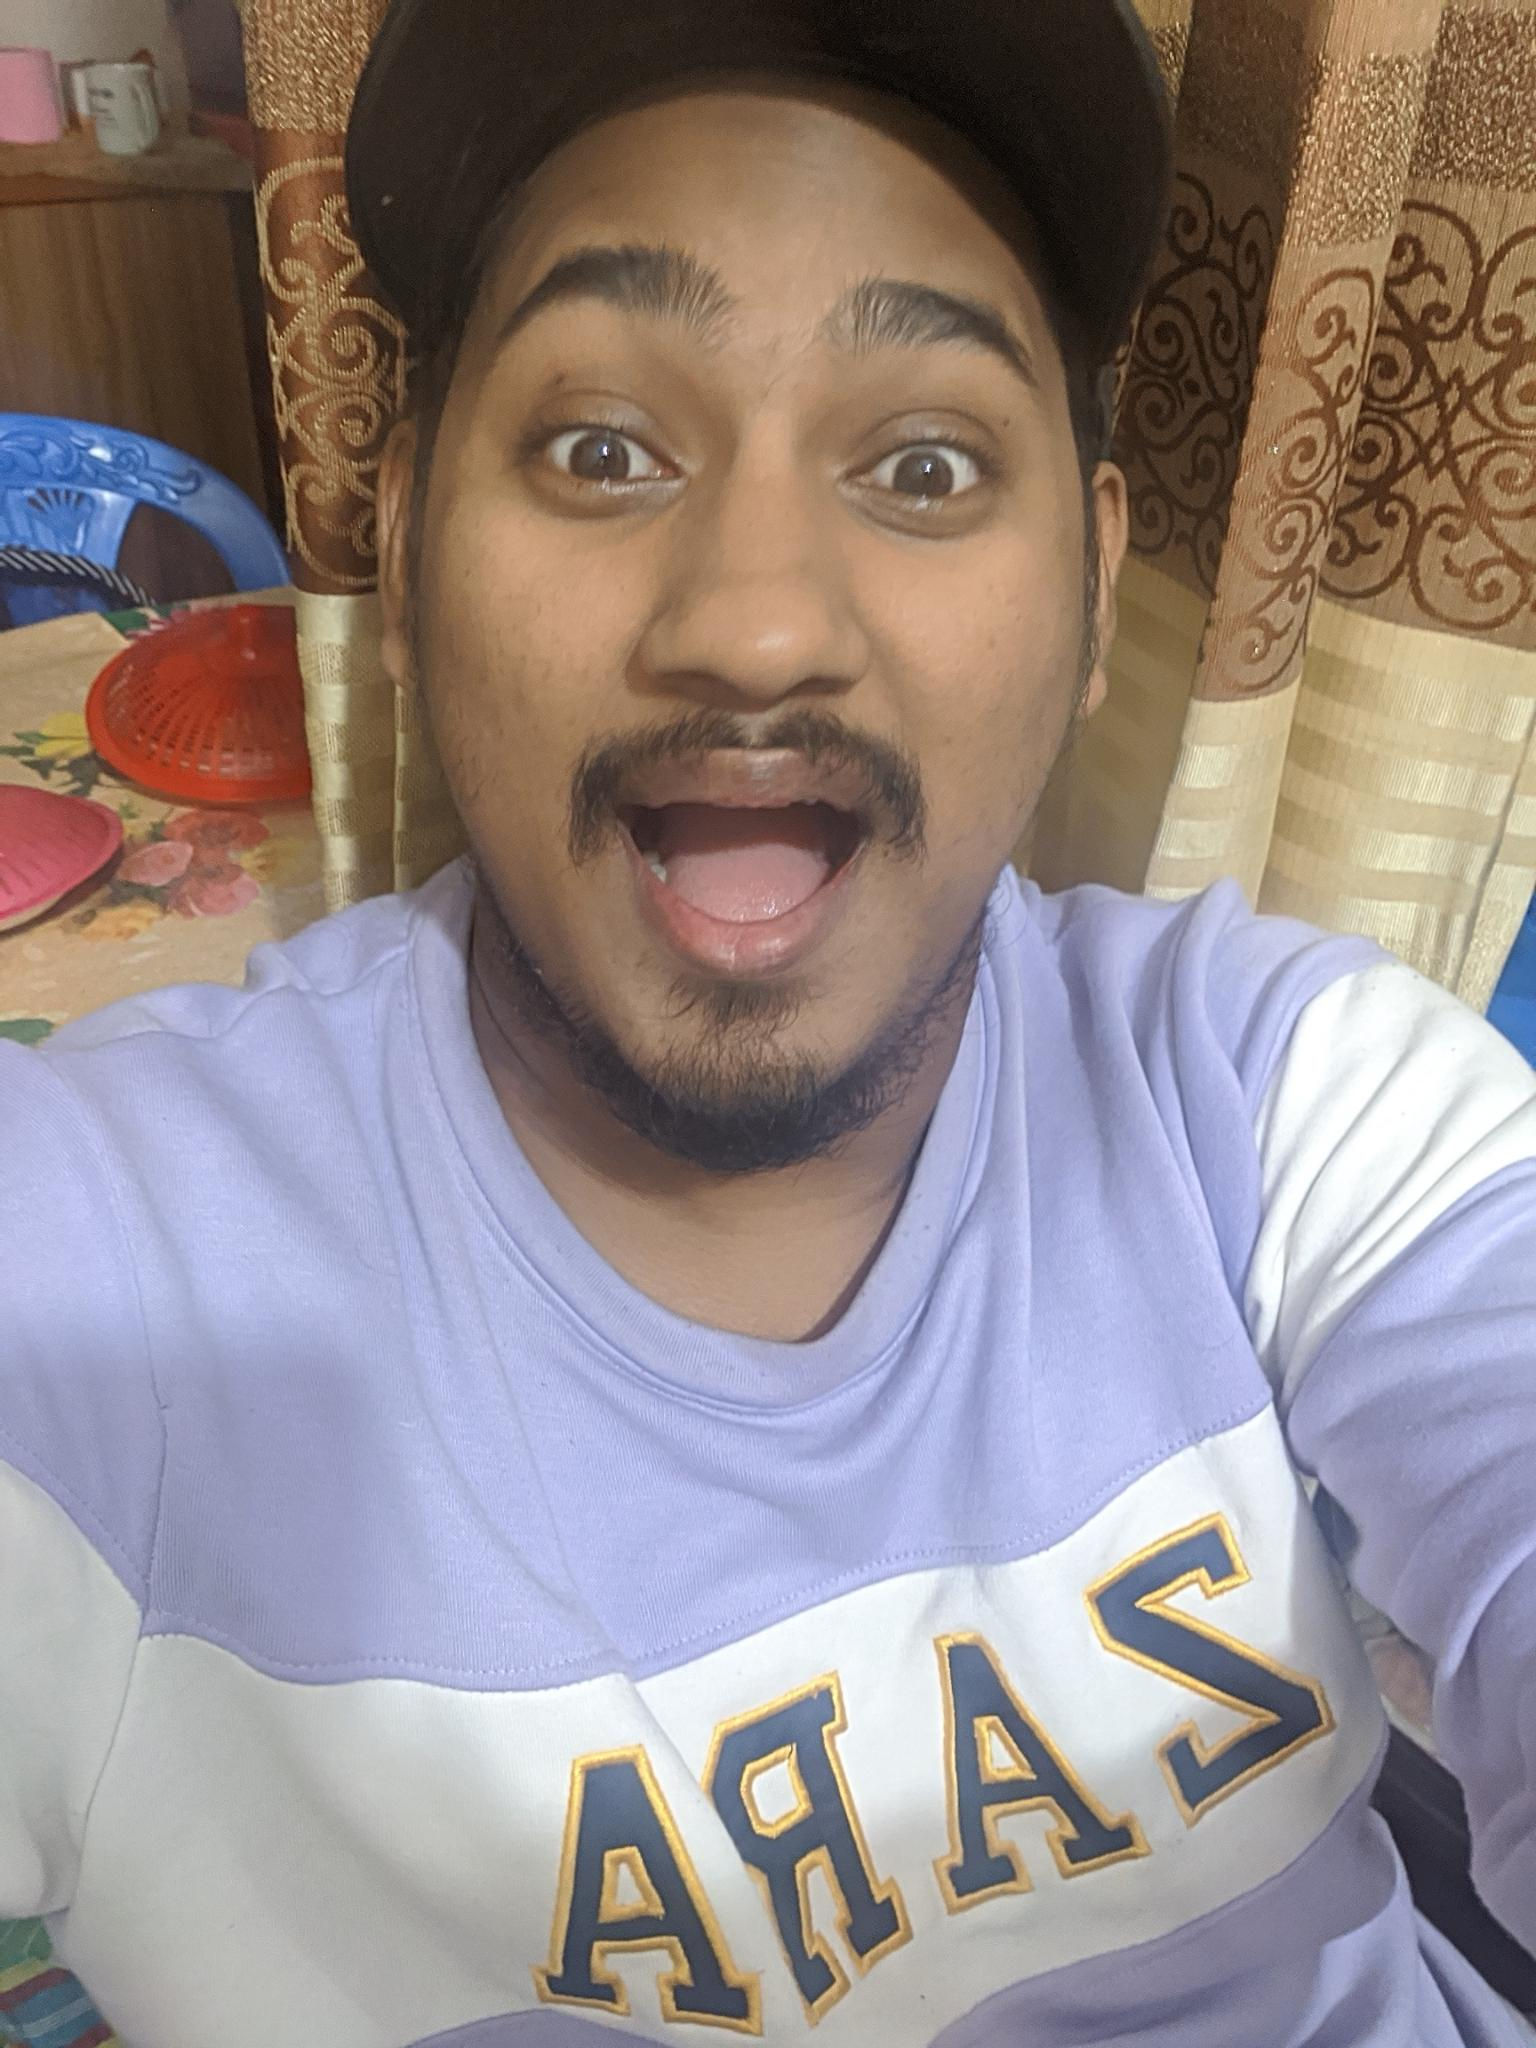Surprise: (397, 134, 1123, 1169)
